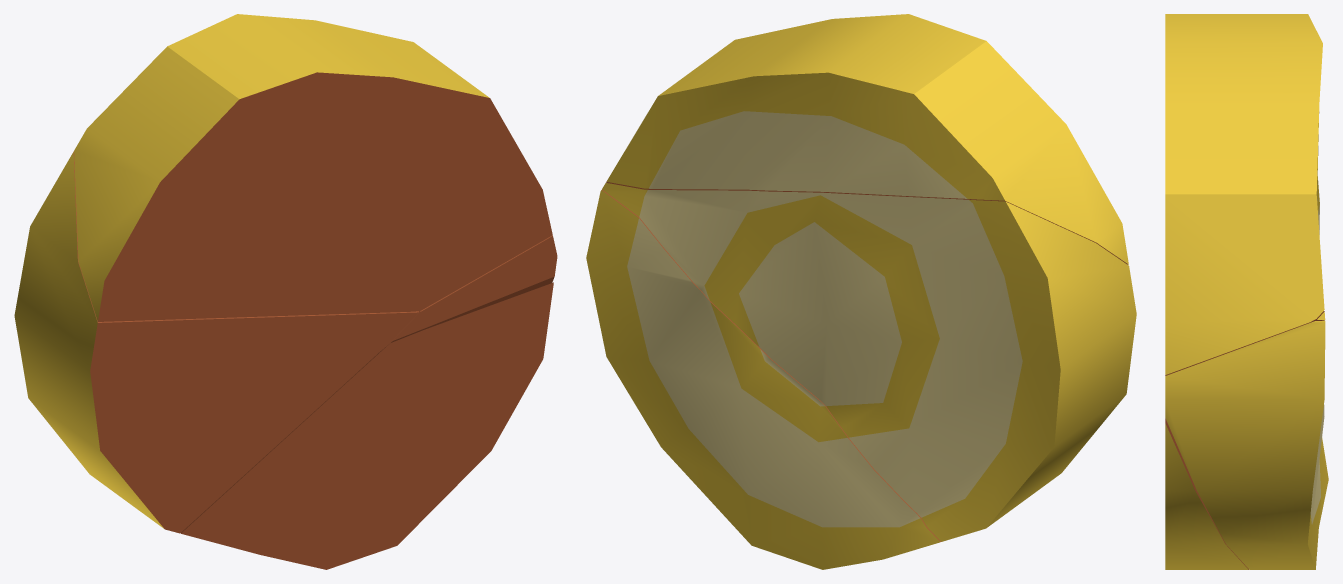
File: Log Core Pieces.fbx
3 renders of one model, left to right at view 1: azimuth 30°, elevation 25°; view 2: azimuth 150°, elevation 25°; view 3: azimuth 270°, elevation 25°, orthographic.
Visible parts, largest first — view 1: Log Core_cell.001, Log Core_cell, Log Core_cell.003, Log Core_cell.002; view 2: Log Core_cell, Log Core_cell.001, Log Core_cell.002; view 3: Log Core_cell.001, Log Core_cell.002, Log Core_cell.003.
Part boxes in pixels (bbox=[...]): Log Core_cell.001: bbox=[74, 14, 552, 321]; Log Core_cell: bbox=[14, 151, 418, 533]; Log Core_cell.003: bbox=[180, 282, 553, 569]; Log Core_cell.002: bbox=[380, 235, 557, 351]; Log Core_cell: bbox=[602, 183, 1136, 541]; Log Core_cell.001: bbox=[606, 14, 1128, 264]; Log Core_cell.002: bbox=[586, 190, 940, 569]; Log Core_cell.001: bbox=[1165, 14, 1324, 374]; Log Core_cell.002: bbox=[1165, 321, 1328, 569]; Log Core_cell.003: bbox=[1165, 418, 1248, 569].
Size of the model in its own units: 1.4 by 1.43 by 0.4282.
